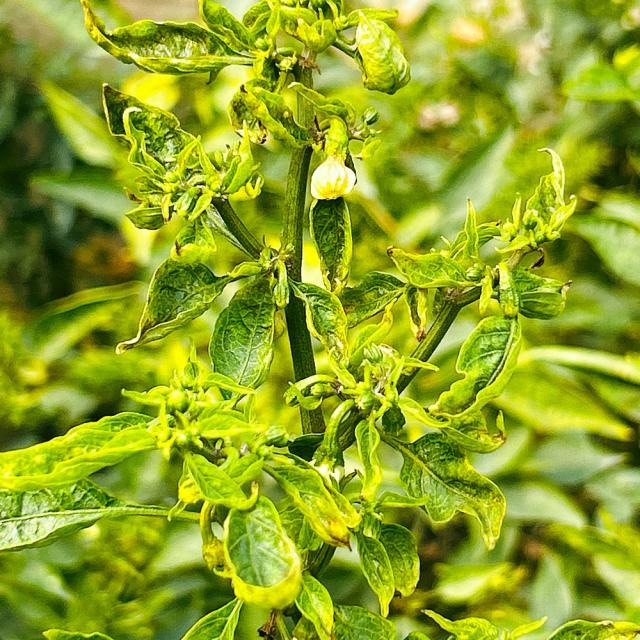Chilli_Leaf_Curl: (1, 0, 579, 638), (221, 494, 303, 610), (207, 273, 278, 395), (351, 9, 412, 96)
